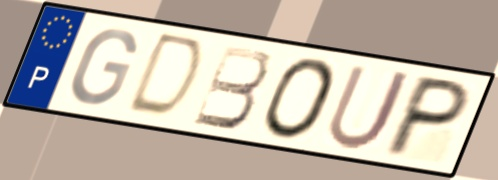B: (189, 42, 273, 131)
D: (121, 30, 209, 123)
G: (67, 27, 140, 108)
O: (261, 55, 340, 142)
P: (378, 72, 476, 160)
U: (322, 62, 416, 153)
